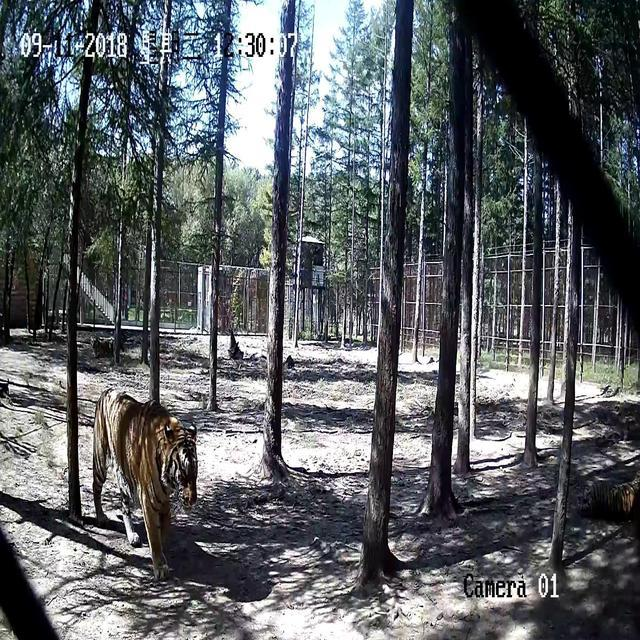tiger: (90, 386, 198, 581), (90, 335, 124, 358)
